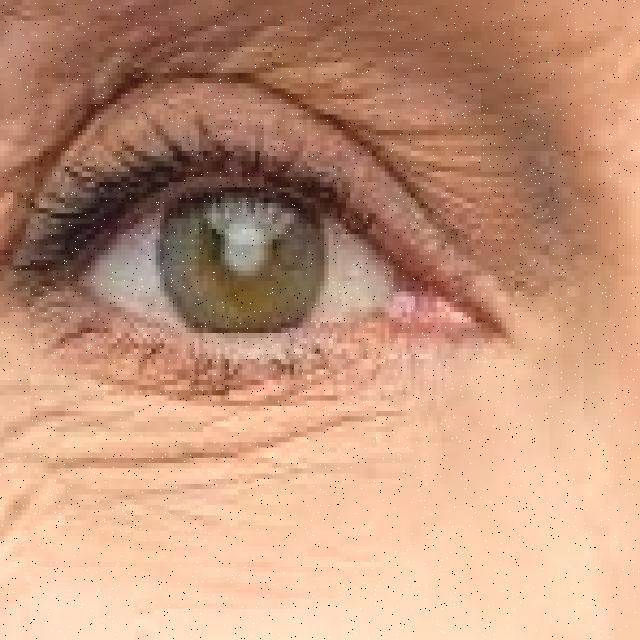Cataract: (144, 164, 332, 342)
